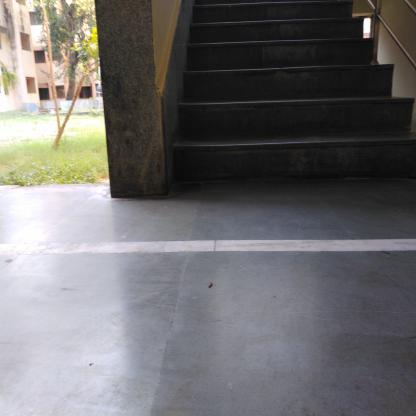stairs: (193, 4, 358, 190)
